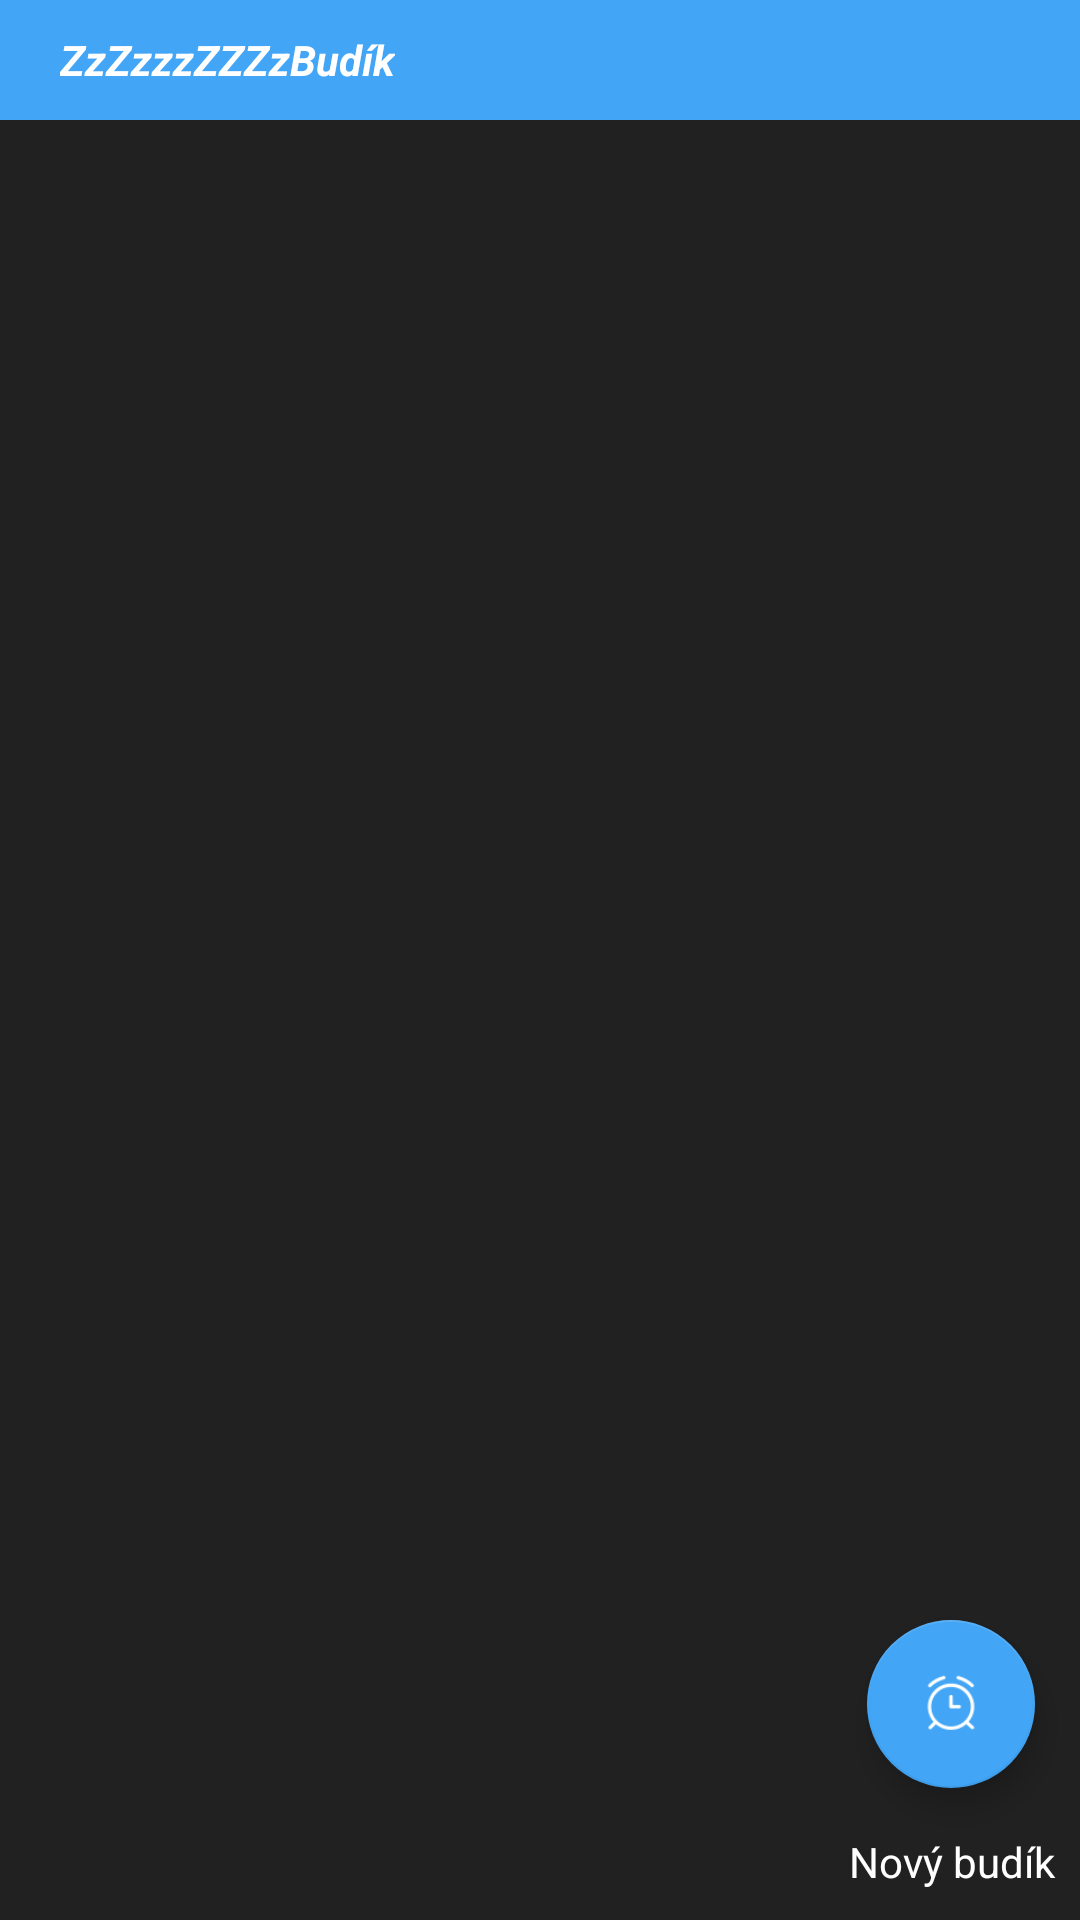

Icon bounding boxes for this 1080 x 1920 phone screenshot, format (x1, y1, x2, y2):
fabalarm: (867, 1620, 1035, 1788)
